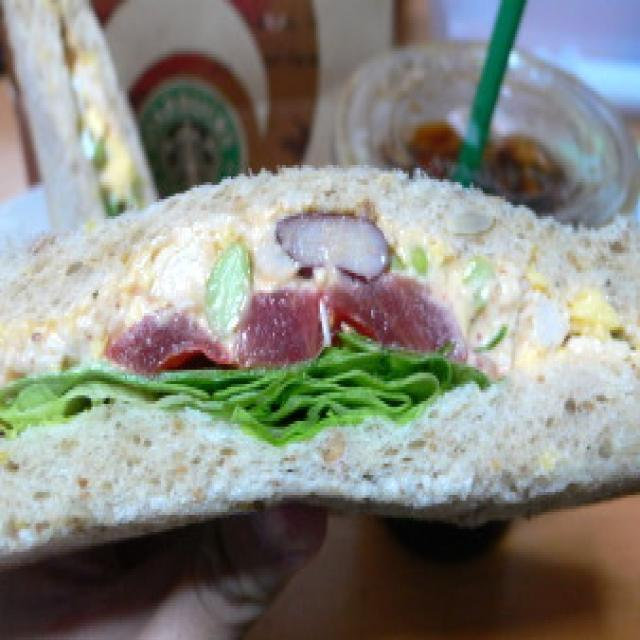三明治: (0, 145, 640, 558)
